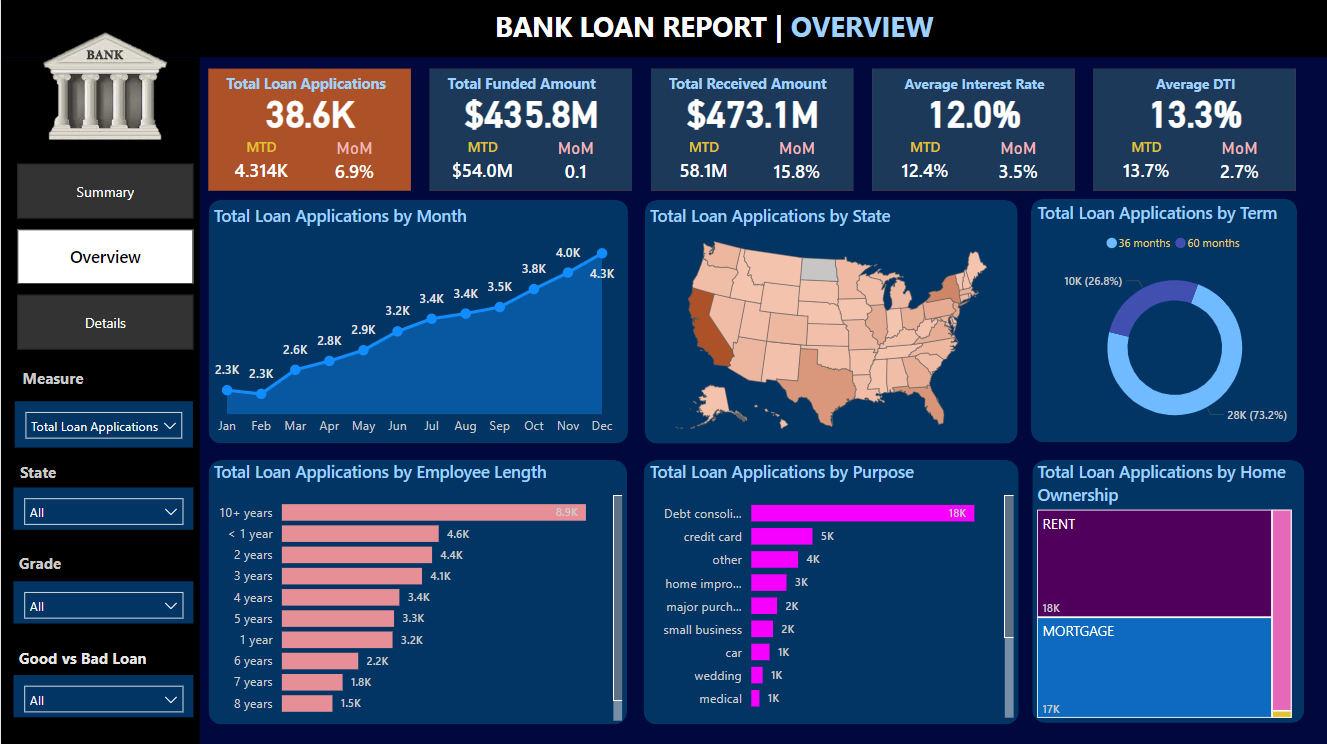

Layout of this report page (visuals, bound fields, positions):
{"tool":"powerbi","page":{"name":"Overview","canvas":[1280,720],"ordinal":1},"visuals":[{"type":"shape","box":[0,0,1280,55.5],"z":0},{"type":"shape","box":[200.5,66.4,195.4,117.5],"z":0,"group":"g1"},{"type":"shape","box":[414.1,66.4,195.4,117.5],"z":0,"group":"g2"},{"type":"shape","box":[627.6,66.4,195.4,117.5],"z":0,"group":"g4"},{"type":"shape","box":[841.1,66.4,195.4,117.5],"z":0,"group":"g3"},{"type":"shape","box":[1054.7,66.4,195.4,117.5],"z":0,"group":"g5"},{"type":"shape","box":[0,55.5,191.8,664.7],"z":1000},{"type":"card","fields":{"Values":["financial_loan.Total Loan Applications"]},"box":[200.5,81.2,196.6,53.2],"z":1000,"group":"g1"},{"type":"card","fields":{"Values":["financial_loan.Total Funded Amount"]},"box":[414.1,81.2,196.6,53.2],"z":1000,"group":"g2"},{"type":"card","fields":{"Values":["financial_loan.Total Recieved Amount"]},"box":[627.6,81.2,196.6,53.2],"z":1000,"group":"g4"},{"type":"card","fields":{"Values":["financial_loan.Avg Int Rate"]},"box":[841.1,81.2,196.6,53.2],"z":1000,"group":"g3"},{"type":"card","fields":{"Values":["financial_loan.Avg DTI"]},"box":[1054.7,81.2,196.6,53.2],"z":1000,"group":"g5"},{"type":"textbox","box":[471.7,2.4,450,53.1],"z":2000},{"type":"textbox","box":[212.9,66.4,173.1,29.7],"z":2000,"group":"g1"},{"type":"textbox","box":[426.5,66.4,173.1,29.7],"z":2000,"group":"g2"},{"type":"textbox","box":[640,66.4,173.1,29.7],"z":2000,"group":"g4"},{"type":"textbox","box":[853.5,66.4,173.1,29.7],"z":2000,"group":"g3"},{"type":"textbox","box":[1067.1,66.4,173.1,29.7],"z":2000,"group":"g5"},{"type":"group","id":"g1","title":"Group 1","box":[200.5,66.4,196.2,118.3],"z":3000},{"type":"card","title":"MTD","fields":{"Values":["financial_loan.MTD Loan Applications"]},"box":[212.2,132.4,77.9,50.5],"z":3000,"group":"g1"},{"type":"card","title":"MTD","fields":{"Values":["financial_loan.MTD Funded Amount"]},"box":[425.8,132.4,77.9,50.5],"z":3000,"group":"g2"},{"type":"card","title":"MTD","fields":{"Values":["financial_loan.MTD Recieved Amount"]},"box":[639.3,132.4,77.9,50.5],"z":3000,"group":"g4"},{"type":"card","title":"MTD","fields":{"Values":["financial_loan.MTD Avg Int Rate"]},"box":[852.8,132.4,77.9,50.5],"z":3000,"group":"g3"},{"type":"card","title":"MTD","fields":{"Values":["financial_loan.MTD Avg DTI"]},"box":[1066.4,132.4,77.9,50.5],"z":3000,"group":"g5"},{"type":"group","id":"g2","title":"Group 1","box":[414.1,66.4,196.2,118.3],"z":4000},{"type":"card","title":"MoM","fields":{"Values":["financial_loan.MoM Loan Applications"]},"box":[298.8,132.4,86.6,50.5],"z":4000,"group":"g1"},{"type":"card","title":"MoM","fields":{"Values":["financial_loan.MoM Funded Amount"]},"box":[512.4,132.4,86.6,50.5],"z":4000,"group":"g2"},{"type":"card","title":"MoM","fields":{"Values":["financial_loan.MoM Recieved Amount"]},"box":[725.9,132.4,86.6,50.5],"z":4000,"group":"g4"},{"type":"card","title":"MoM","fields":{"Values":["financial_loan.MoM Avg Int Rate"]},"box":[939.4,132.4,86.6,50.5],"z":4000,"group":"g3"},{"type":"card","title":"MoM","fields":{"Values":["financial_loan.MoM Avg DTI"]},"box":[1153,132.4,86.6,50.5],"z":4000,"group":"g5"},{"type":"group","id":"g3","title":"Group 1","box":[841.1,66.4,196.2,118.3],"z":5000},{"type":"group","id":"g4","title":"Group 1","box":[627.6,66.4,196.2,118.3],"z":6000},{"type":"group","id":"g5","title":"Group 1","box":[1054.7,66.4,196.2,118.3],"z":7000},{"type":"shape","box":[200,193,405,235],"z":8000},{"type":"slicer","fields":{"Values":["financial_loan.address_state"]},"box":[12.1,470.7,173.7,41],"z":9000},{"type":"textbox","box":[13.3,440.6,54.3,30.2],"z":10000},{"type":"slicer","fields":{"Values":["financial_loan.grade"]},"box":[12.1,561.2,173.7,41],"z":11000},{"type":"textbox","box":[11.5,528.8,69.3,31.7],"z":12000},{"type":"slicer","fields":{"Values":["financial_loan.Good v Bad Loan"]},"box":[12.1,651.7,173.7,41],"z":13000},{"type":"textbox","box":[11.5,619.7,152.9,31.7],"z":14000},{"type":"areaChart","fields":{"Y":["financial_loan.Total Loan Applications"],"Category":["Date Table.Month"]},"box":[200.5,196.2,398.2,232.3],"z":15000},{"type":"slicer","fields":{"Values":["Select Measure.Select Measure"]},"box":[13,387.4,171.7,44.7],"z":16000},{"type":"textbox","box":[15.7,349.9,130.3,37.4],"z":17000},{"type":"shape","box":[621.3,193,360,235.3],"z":18000},{"type":"shapeMap","fields":{"Value":["financial_loan.Total Loan Applications"],"Category":["financial_loan.address_state"]},"box":[621.8,196.2,360.7,232.3],"z":19000},{"type":"shape","box":[994.1,191.9,256.8,235.2],"z":20000},{"type":"donutChart","fields":{"Y":["financial_loan.Total Loan Applications"],"Category":["financial_loan.term"]},"box":[995.5,194.8,275.6,233.7],"z":21000},{"type":"shape","box":[200.5,444.4,404,255.4],"z":22000},{"type":"barChart","fields":{"Y":["financial_loan.Total Loan Applications"],"Category":["financial_loan.emp_length"]},"box":[200.5,444.4,404,256.8],"z":23000},{"type":"shape","box":[620.4,444.4,362.1,255.4],"z":24000},{"type":"barChart","fields":{"Y":["financial_loan.Total Loan Applications"],"Category":["financial_loan.purpose"]},"box":[621.8,444.4,360.7,253.9],"z":25000},{"type":"shape","box":[995.5,444.4,262.6,253.9],"z":26000},{"type":"treemap","fields":{"Values":["financial_loan.Total Loan Applications"],"Group":["financial_loan.home_ownership"]},"box":[995.5,444.4,255.4,253.9],"z":27000},{"type":"pageNavigator","box":[15.7,158,170.1,179.8],"z":28000},{"type":"image","box":[14.5,0,168.9,168.9],"z":29000}]}

Visuals, with their boxes in screenshot pixels (x1, y1, x2, y2), scaled from the page's 1280x720 canvas onto the 1327x744 screenshot:
shape: [left=0, top=0, right=1326, bottom=57]
shape: [left=208, top=69, right=410, bottom=190]
shape: [left=429, top=69, right=632, bottom=190]
shape: [left=651, top=69, right=853, bottom=190]
shape: [left=872, top=69, right=1075, bottom=190]
shape: [left=1093, top=69, right=1296, bottom=190]
shape: [left=0, top=57, right=199, bottom=743]
card - financial_loan.Total Loan Applications: [left=208, top=84, right=412, bottom=139]
card - financial_loan.Total Funded Amount: [left=429, top=84, right=633, bottom=139]
card - financial_loan.Total Recieved Amount: [left=651, top=84, right=854, bottom=139]
card - financial_loan.Avg Int Rate: [left=872, top=84, right=1076, bottom=139]
card - financial_loan.Avg DTI: [left=1093, top=84, right=1297, bottom=139]
textbox: [left=489, top=2, right=956, bottom=57]
textbox: [left=221, top=69, right=400, bottom=99]
textbox: [left=442, top=69, right=622, bottom=99]
textbox: [left=664, top=69, right=843, bottom=99]
textbox: [left=885, top=69, right=1064, bottom=99]
textbox: [left=1106, top=69, right=1286, bottom=99]
"Group 1" group: [left=208, top=69, right=411, bottom=191]
"MTD" card: [left=220, top=137, right=301, bottom=189]
"MTD" card: [left=441, top=137, right=522, bottom=189]
"MTD" card: [left=663, top=137, right=744, bottom=189]
"MTD" card: [left=884, top=137, right=965, bottom=189]
"MTD" card: [left=1106, top=137, right=1186, bottom=189]
"Group 1" group: [left=429, top=69, right=633, bottom=191]
"MoM" card: [left=310, top=137, right=400, bottom=189]
"MoM" card: [left=531, top=137, right=621, bottom=189]
"MoM" card: [left=753, top=137, right=842, bottom=189]
"MoM" card: [left=974, top=137, right=1064, bottom=189]
"MoM" card: [left=1195, top=137, right=1285, bottom=189]
"Group 1" group: [left=872, top=69, right=1075, bottom=191]
"Group 1" group: [left=651, top=69, right=854, bottom=191]
"Group 1" group: [left=1093, top=69, right=1297, bottom=191]
shape: [left=207, top=199, right=627, bottom=442]
slicer - financial_loan.address_state: [left=13, top=486, right=193, bottom=529]
textbox: [left=14, top=455, right=70, bottom=486]
slicer - financial_loan.grade: [left=13, top=580, right=193, bottom=622]
textbox: [left=12, top=546, right=84, bottom=579]
slicer - financial_loan.Good v Bad Loan: [left=13, top=673, right=193, bottom=716]
textbox: [left=12, top=640, right=170, bottom=673]
areaChart - financial_loan.Total Loan Applications x Date Table.Month: [left=208, top=203, right=621, bottom=443]
slicer - Select Measure.Select Measure: [left=13, top=400, right=191, bottom=447]
textbox: [left=16, top=362, right=151, bottom=400]
shape: [left=644, top=199, right=1017, bottom=443]
shapeMap - financial_loan.Total Loan Applications x financial_loan.address_state: [left=645, top=203, right=1019, bottom=443]
shape: [left=1031, top=198, right=1297, bottom=441]
donutChart - financial_loan.Total Loan Applications x financial_loan.term: [left=1032, top=201, right=1318, bottom=443]
shape: [left=208, top=459, right=627, bottom=723]
barChart - financial_loan.Total Loan Applications x financial_loan.emp_length: [left=208, top=459, right=627, bottom=725]
shape: [left=643, top=459, right=1019, bottom=723]
barChart - financial_loan.Total Loan Applications x financial_loan.purpose: [left=645, top=459, right=1019, bottom=722]
shape: [left=1032, top=459, right=1304, bottom=722]
treemap - financial_loan.Total Loan Applications x financial_loan.home_ownership: [left=1032, top=459, right=1297, bottom=722]
pageNavigator: [left=16, top=163, right=193, bottom=349]
image: [left=15, top=0, right=190, bottom=175]
